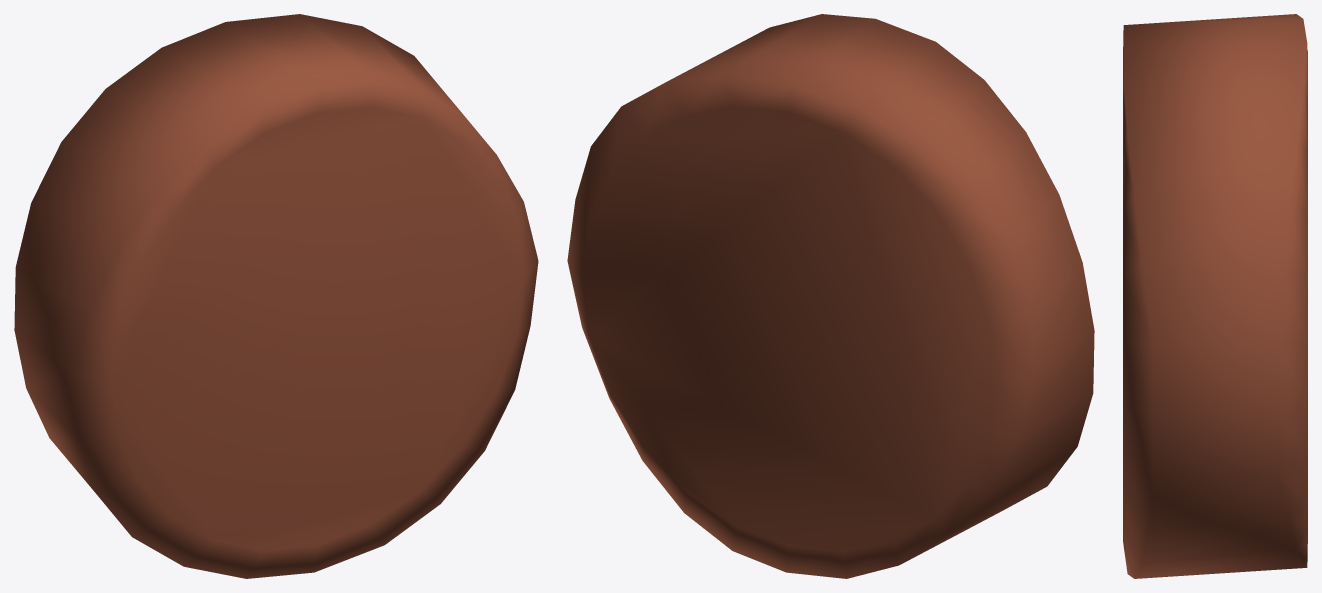
File: dishwasher_shallow_power_button.glb
3 renders of one model, left to right at view 1: azimuth 30°, elevation 25°; view 2: azimuth 150°, elevation 25°; view 3: azimuth 270°, elevation 25°, orthographic. The views are drawn at different scales.
Parts seen in each view (by area): view 1: dishwasher_shallow_power_button; view 2: dishwasher_shallow_power_button; view 3: dishwasher_shallow_power_button.
Part boxes in pixels (x1,y1,x2,y2): dishwasher_shallow_power_button: (14,14,538,578); dishwasher_shallow_power_button: (567,14,1094,578); dishwasher_shallow_power_button: (1123,14,1307,578).
Bounding box in the file's own units: 0.018 × 0.018 × 0.006.
